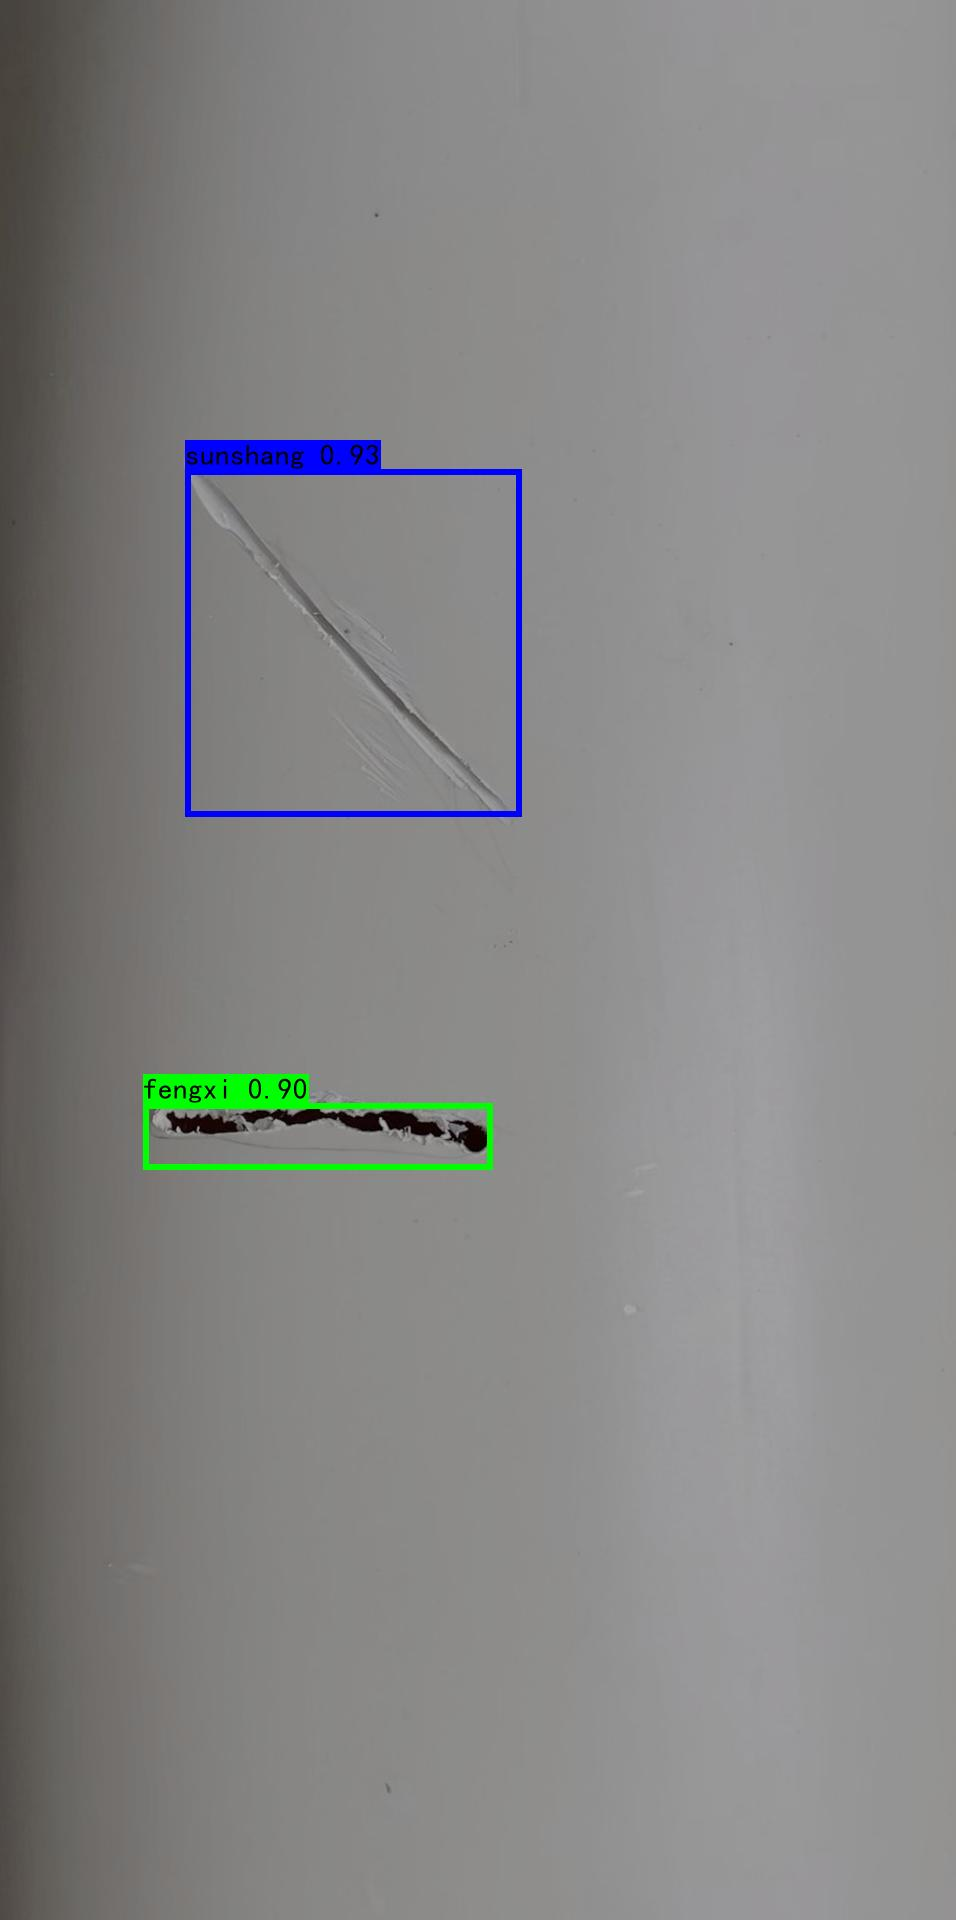fengxi: (135, 1095, 510, 1171)
sunshang: (171, 440, 530, 849)
